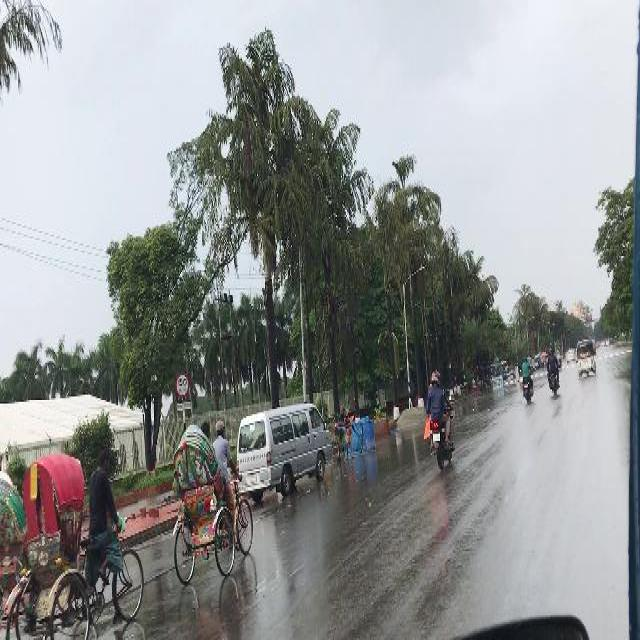bike: (426, 368, 456, 473), (520, 356, 535, 404), (547, 348, 561, 398)
vehicle: (19, 451, 146, 639), (173, 422, 236, 586), (238, 404, 334, 502), (2, 470, 31, 634), (577, 337, 598, 380), (566, 349, 575, 365)
